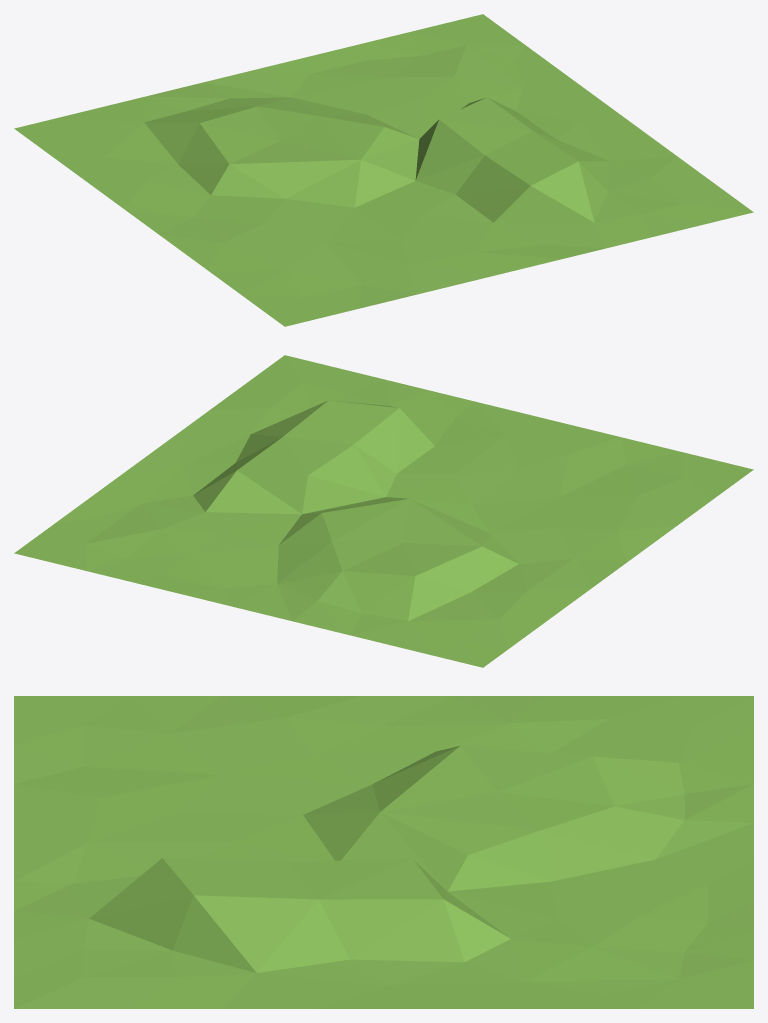
Rendered from MT_Terrain_S_c_19_LOD.fbx.
The picture shows the model from 3 angles, top to bottom: view 1: azimuth 30°, elevation 25°; view 2: azimuth 150°, elevation 25°; view 3: azimuth 270°, elevation 25°; orthographic projection. The views are drawn at different scales.
Parts seen in each view (by area): view 1: MT_Terrain_S_c_19_LOD0; view 2: MT_Terrain_S_c_19_LOD0; view 3: MT_Terrain_S_c_19_LOD0.
Boxes of the visible parts, x1,y1,x2,y2 form: MT_Terrain_S_c_19_LOD0: (14, 14, 753, 326); MT_Terrain_S_c_19_LOD0: (14, 355, 753, 667); MT_Terrain_S_c_19_LOD0: (14, 696, 753, 1008).
Size of what is drawn, in the model's own units: 2500 by 159 by 2500.
